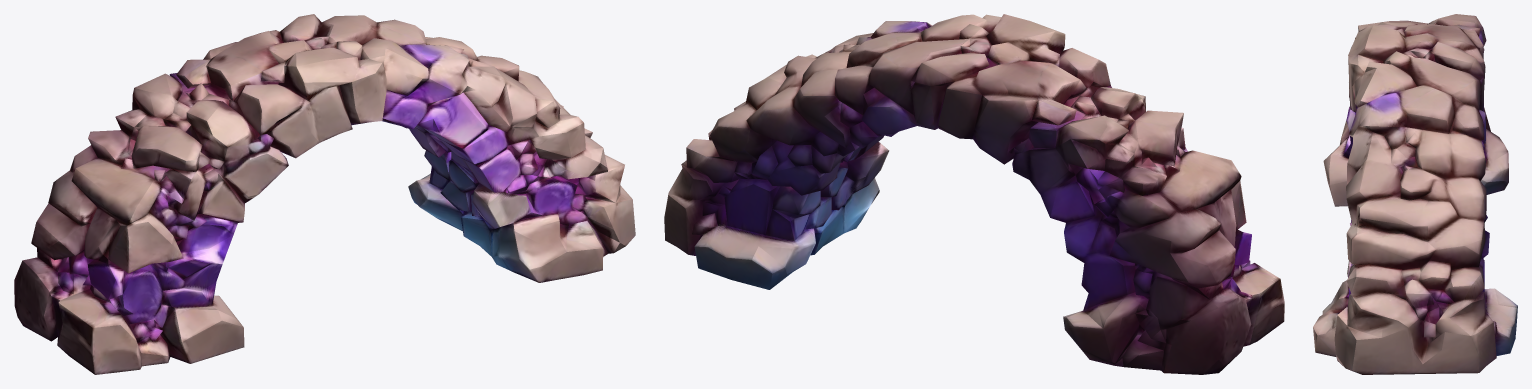
File: m2CaveArchBridge.glb
3 renders of one model, left to right at view 1: azimuth 30°, elevation 25°; view 2: azimuth 150°, elevation 25°; view 3: azimuth 270°, elevation 25°, orthographic. The views are drawn at different scales.
Parts seen in each view (by area): view 1: model; view 2: model; view 3: model.
Boxes of the visible parts, x1,y1,x2,y2 form: model: [14, 14, 635, 374]; model: [664, 14, 1284, 374]; model: [1313, 14, 1517, 374].
Bounding box in the file's own units: 1.9 × 0.819 × 0.7065.
1 material, 1 textured.
